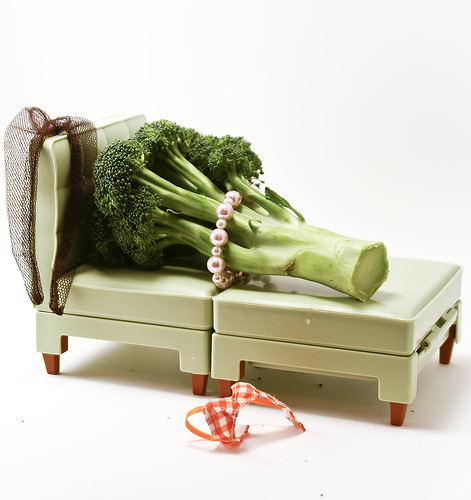broccoli: (85, 119, 394, 307)
